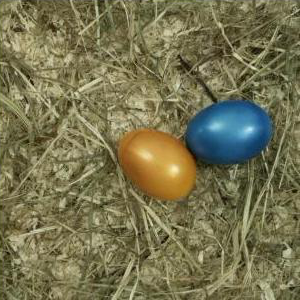egg: (118, 129, 197, 200), (187, 101, 273, 164)
